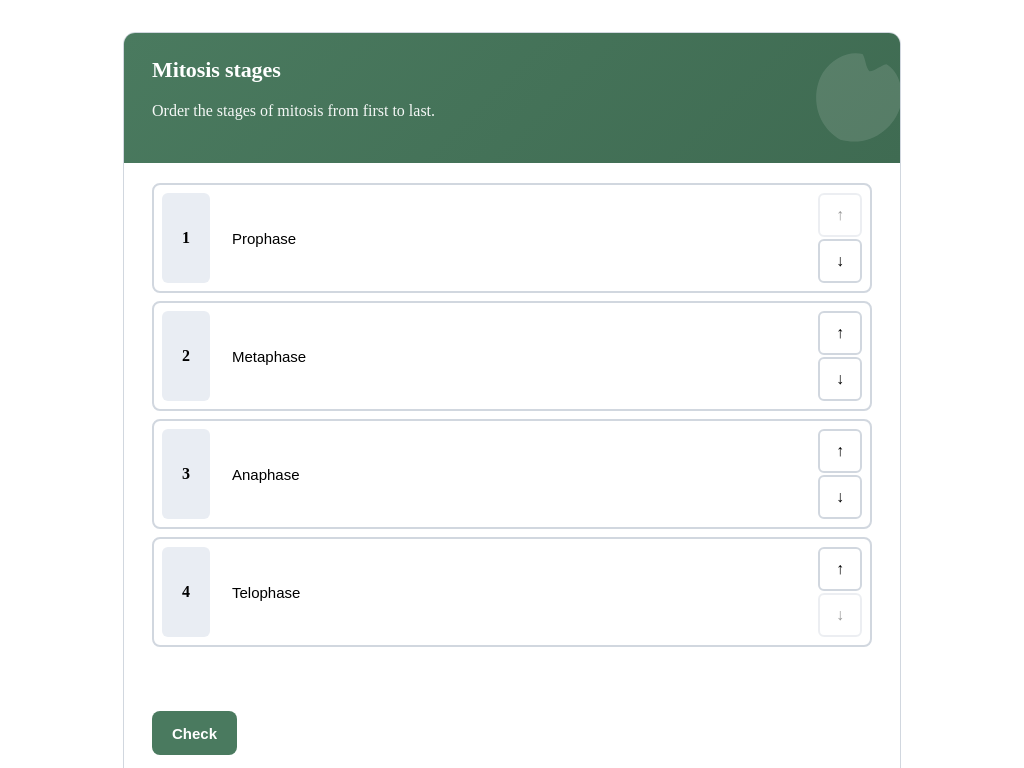
Test: SequenceSteps › Try again returns to the answering stage with a fresh shuffle (different from correct order)
The width and height of the screenshot is (1024, 768).
Click the button "Check": (194, 733) [152,711,237,755]
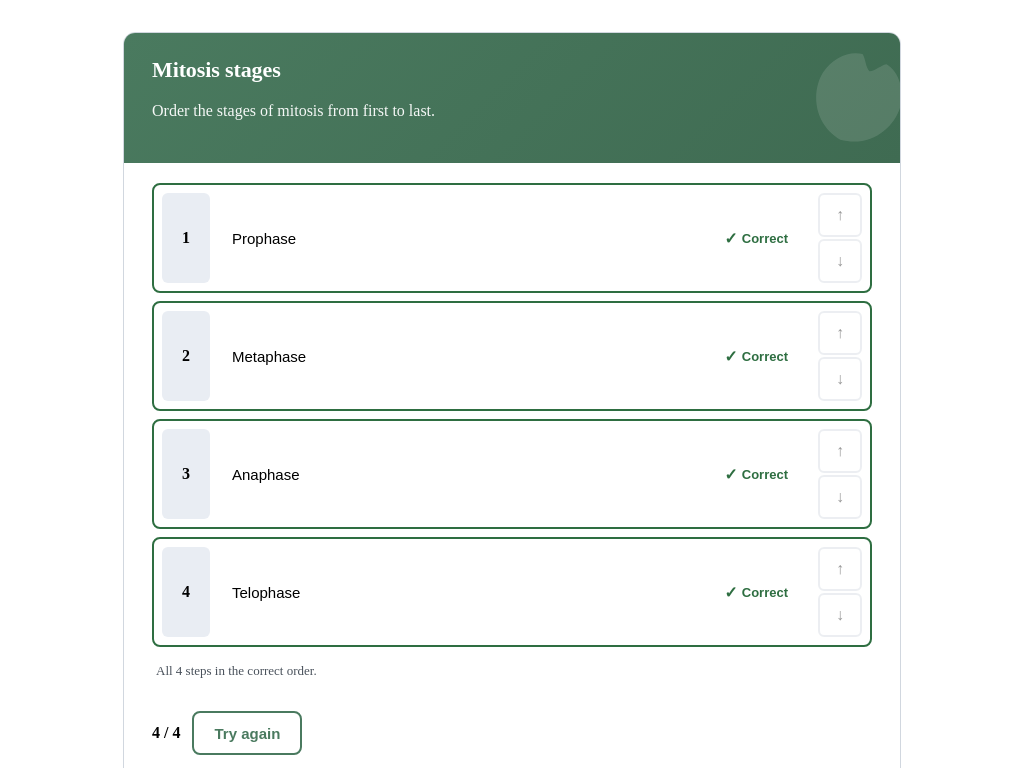
Result: the button "Check" is gone
Click the button "Try again": (247, 733) [192,711,302,755]
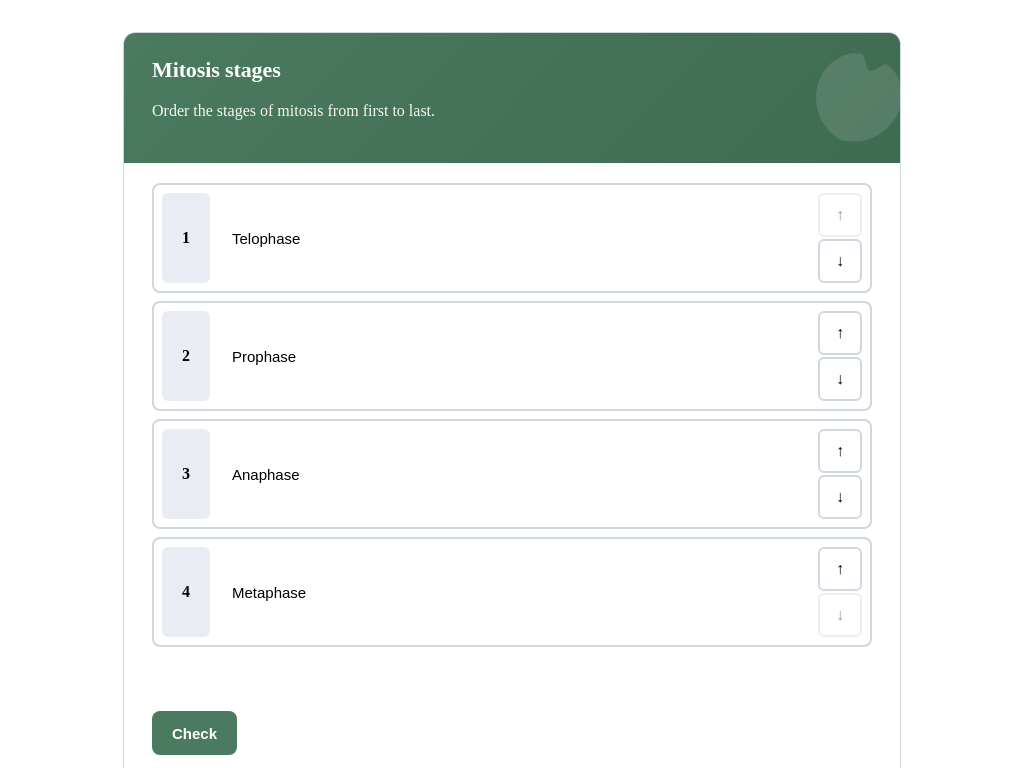
Result: the button "Check" is shown at [152,711,237,755]
